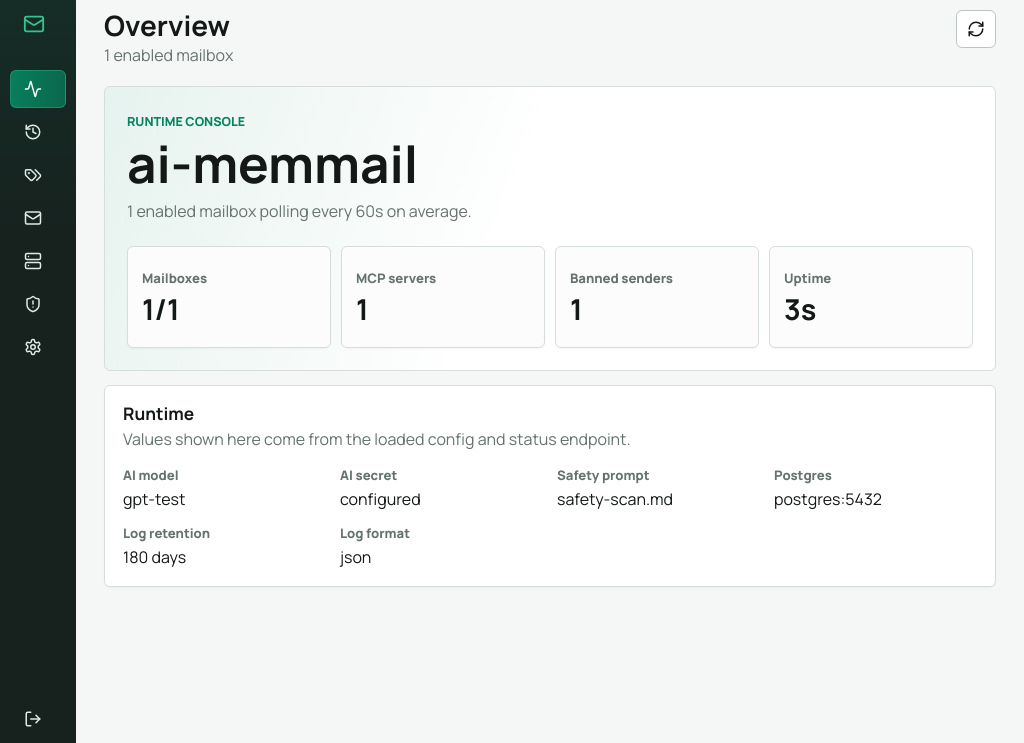
Scenario: App history › renders conversation history details
Click the button "History" at (38,132), box x1=10 y1=113 x2=66 y2=151
(page scrolled)
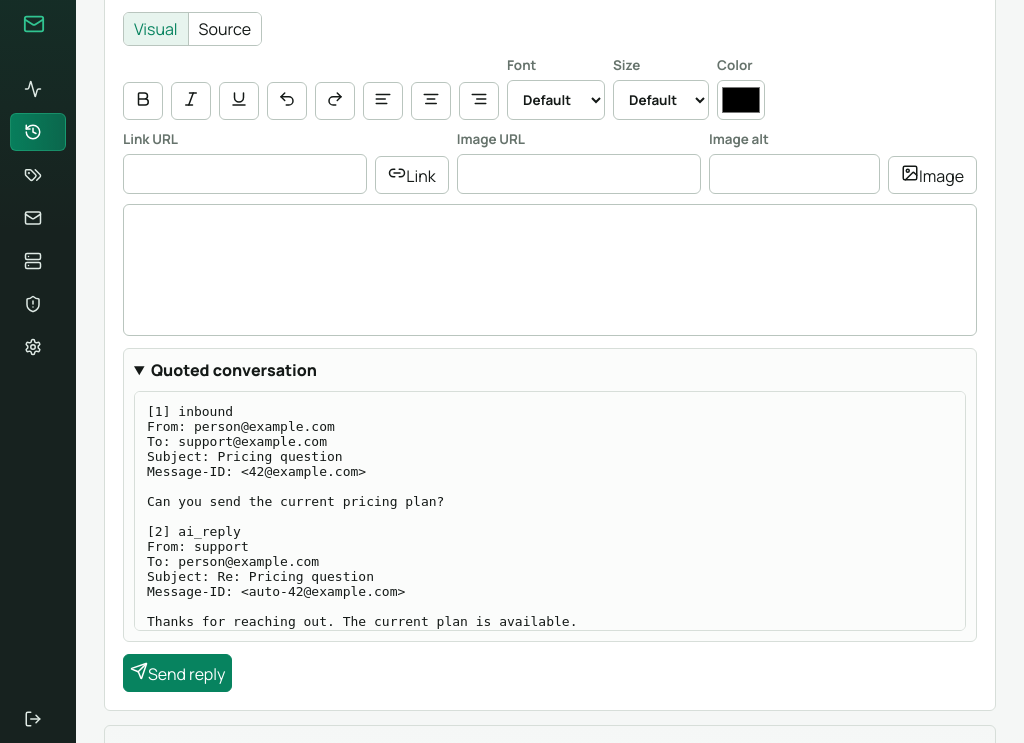
Result: the heading "Quoted conversation" is shown at x1=151 y1=360 x2=317 y2=382
